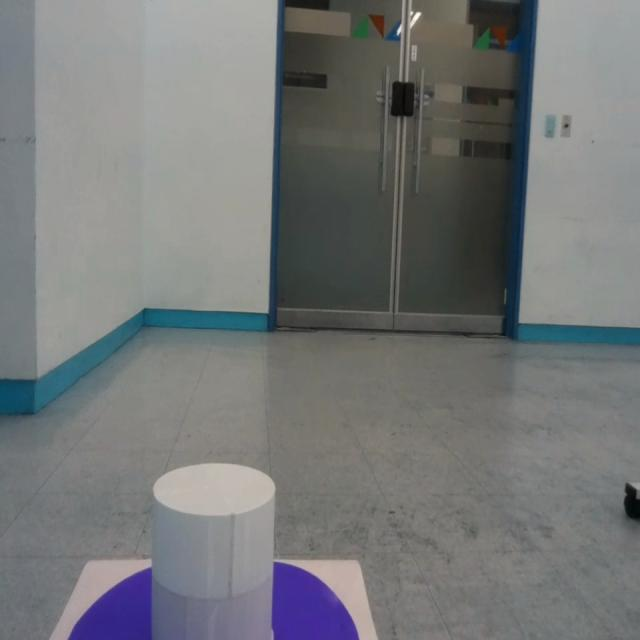cylinder: (150, 463, 277, 638)
